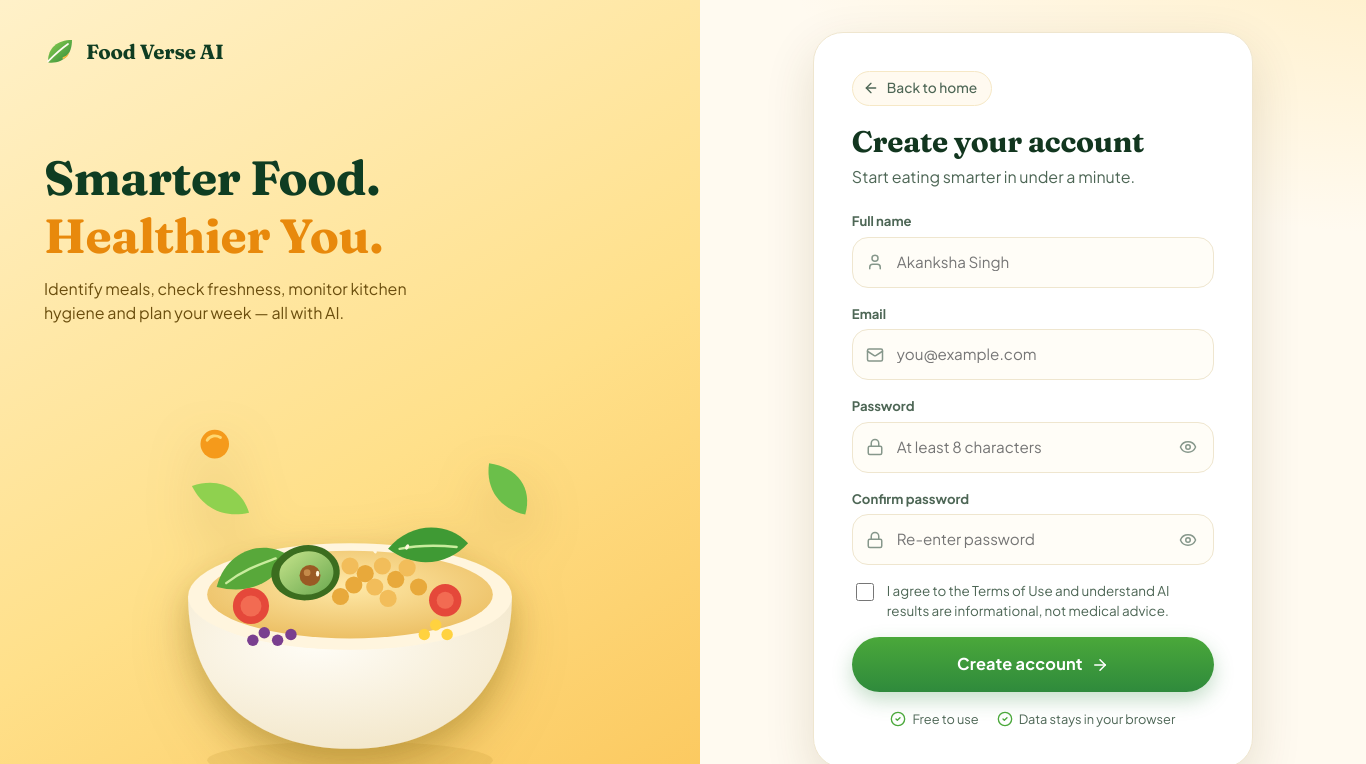
Test: Food Verse AI › validates the signup form
Step 1. Click the button "Create account" → (1033, 665), box [852,637,1214,692]
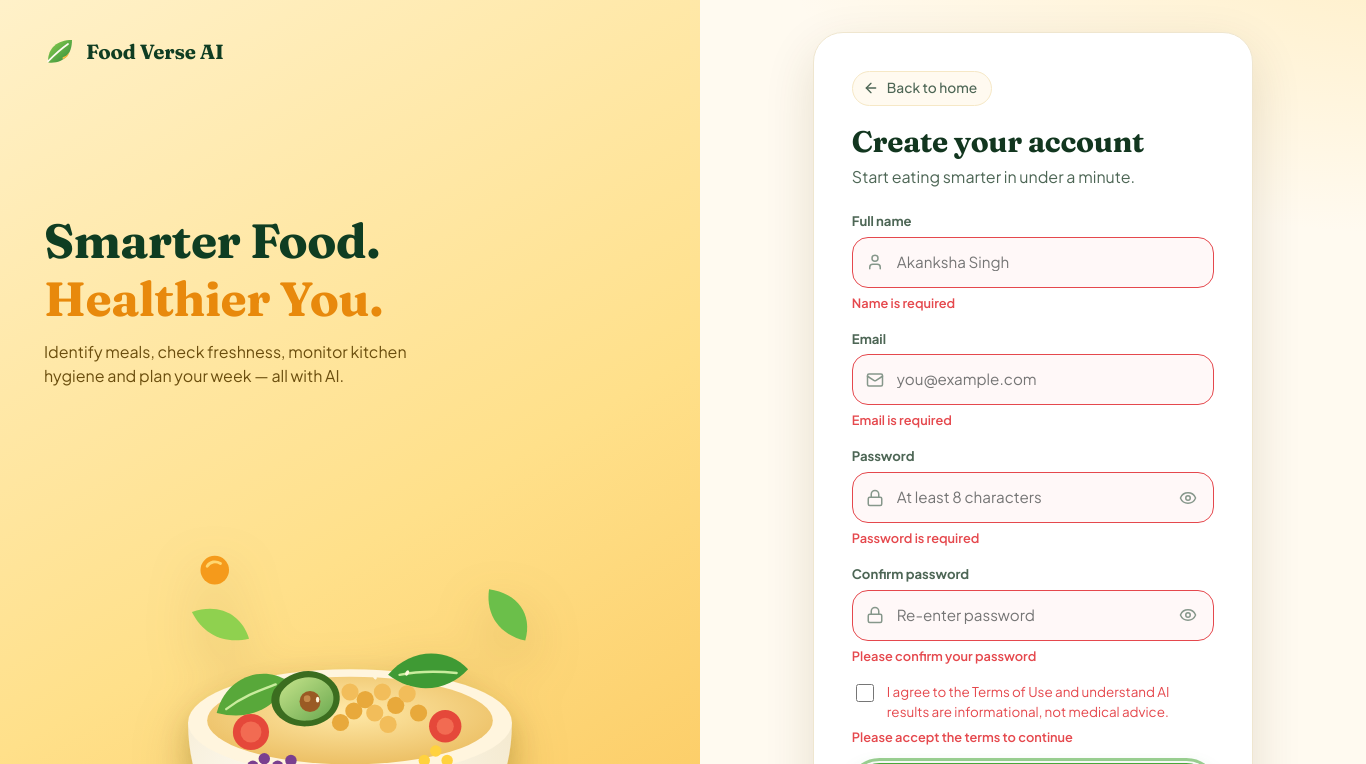
Expected: the text "Name is required" is shown, [852,295,955,311]
Expected: the text "Please accept the terms to continue" is shown, [852,729,1073,745]
